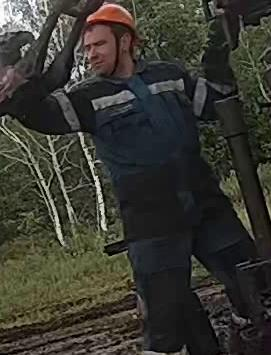helmet: (85, 3, 138, 39)
vest: (63, 61, 207, 225)
